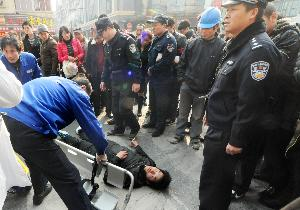10+: (1, 1, 300, 210)
down: (56, 122, 173, 195)
